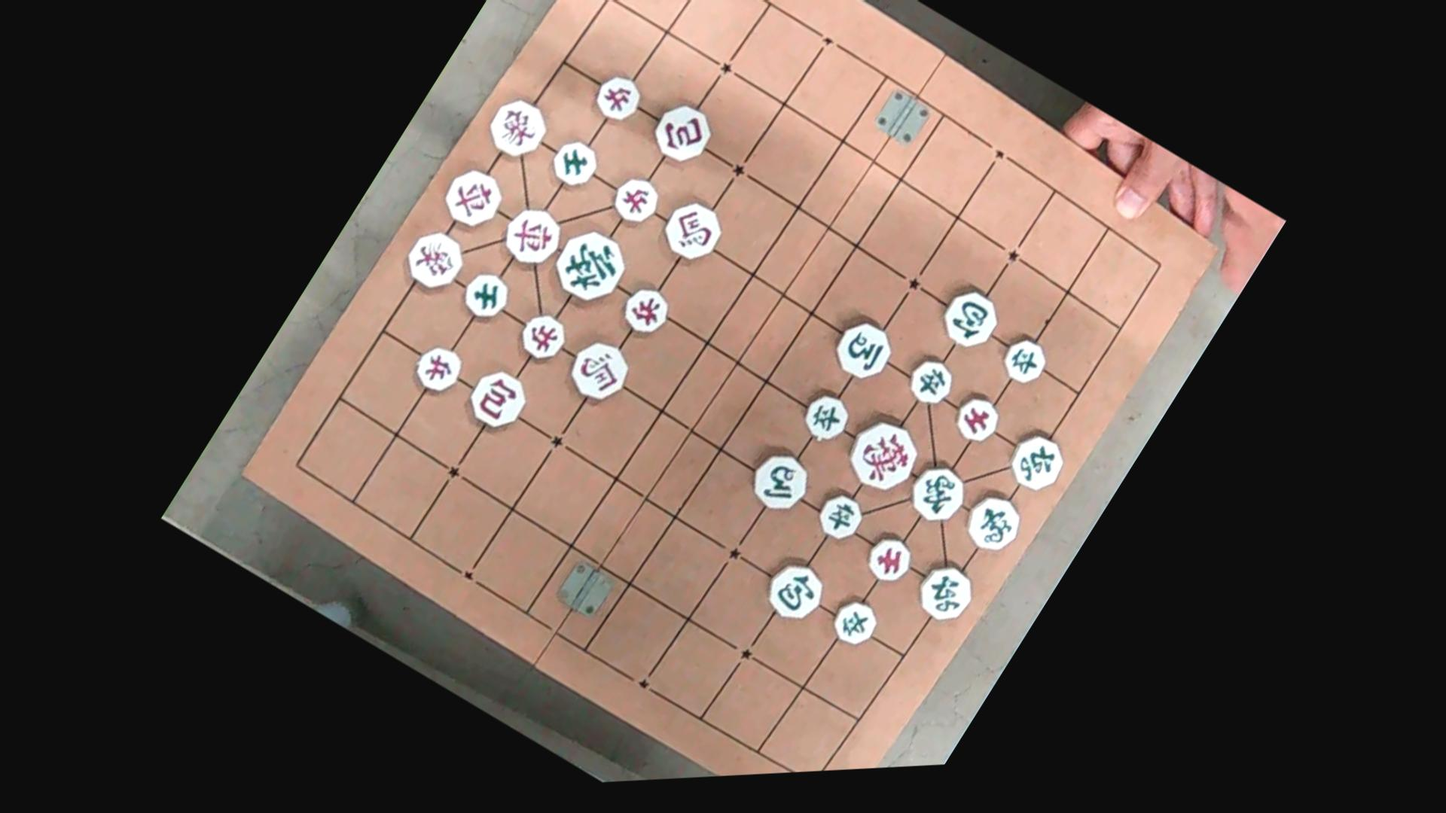cha_green: (999, 421, 1070, 500), (908, 553, 979, 631)
cha_red: (435, 158, 508, 239), (496, 195, 569, 274)
jol_green: (797, 384, 856, 449), (900, 350, 959, 415), (996, 326, 1054, 389), (827, 592, 883, 653), (815, 488, 868, 545)
jol_red: (616, 277, 677, 345), (606, 165, 666, 231), (512, 304, 573, 367), (407, 335, 466, 399), (591, 66, 647, 127)
ma_green: (827, 309, 901, 390), (744, 440, 818, 520)
ma_red: (559, 329, 637, 410), (654, 190, 729, 272)
po_green: (932, 277, 1005, 356), (758, 550, 831, 629)
po_red: (462, 357, 537, 437), (648, 92, 719, 170)
sa_green: (455, 263, 514, 327), (547, 131, 605, 194)
sa_red: (948, 388, 1006, 452), (857, 528, 915, 592)
sang_green: (901, 453, 975, 534), (956, 484, 1028, 563)
sang_red: (481, 87, 554, 168), (397, 221, 470, 301)
wang_green: (545, 218, 633, 313)
wang_red: (840, 409, 929, 504)
